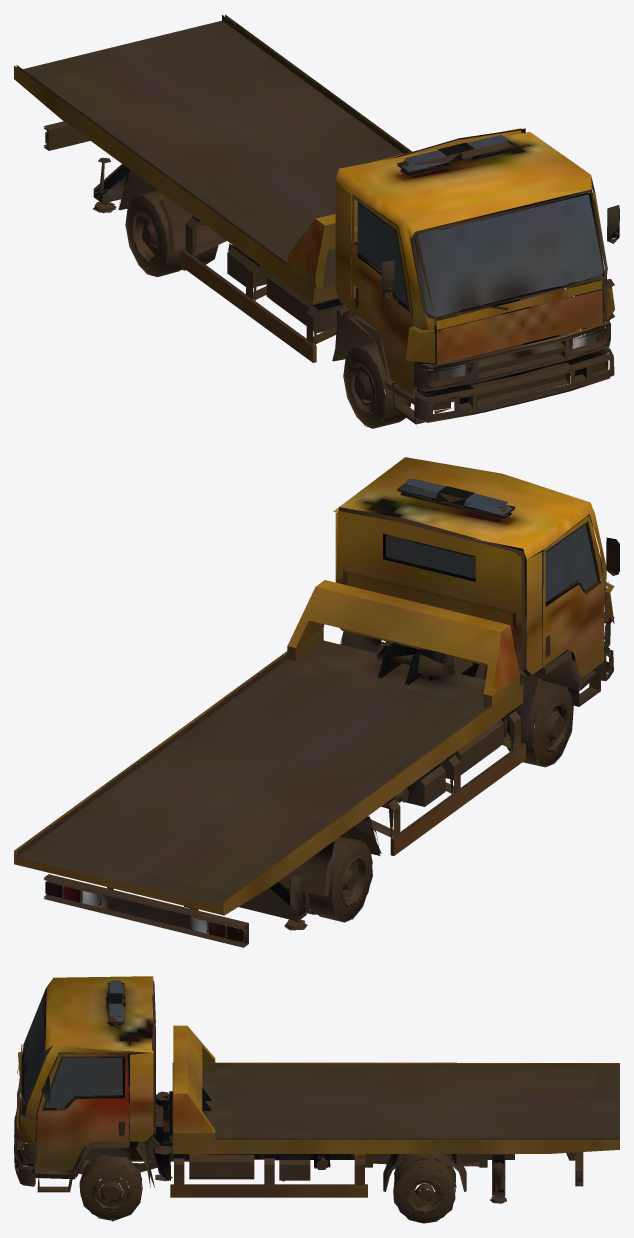
File: pack-tow-truck-L3.glb
3 views of the same model, one above another, from view 1: azimuth 30°, elevation 25°; view 2: azimuth 150°, elevation 25°; view 3: azimuth 270°, elevation 25° (orthographic). The views are drawn at different scales.
Visible parts, largest first — view 1: body; view 2: body; view 3: body.
Part boxes in pixels (box(x1,y1,x2,y2)): body: box(14, 14, 619, 428); body: box(14, 457, 619, 947); body: box(14, 976, 619, 1223).
Bounding box in the file's own units: 2.37 × 2.39 × 6.94.
Materials: 1 (1 with a texture image).
